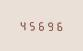five: (27, 19, 35, 30)
four: (18, 19, 26, 30)
nine: (45, 20, 53, 31)
six: (36, 19, 44, 31), (54, 20, 62, 31)
